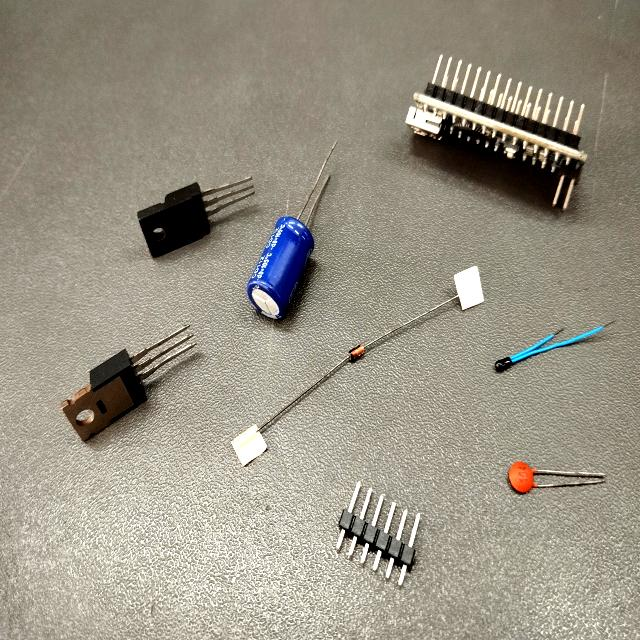capacitor: (244, 216, 315, 323), (507, 461, 570, 495)
